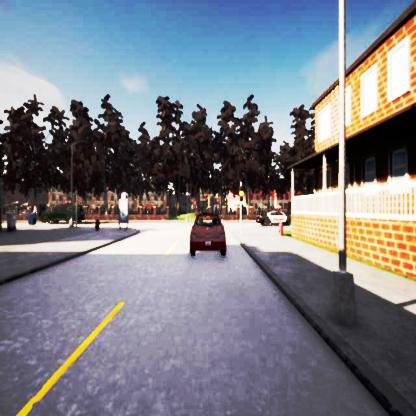vehicle: (189, 214, 226, 257), (265, 209, 287, 224)
